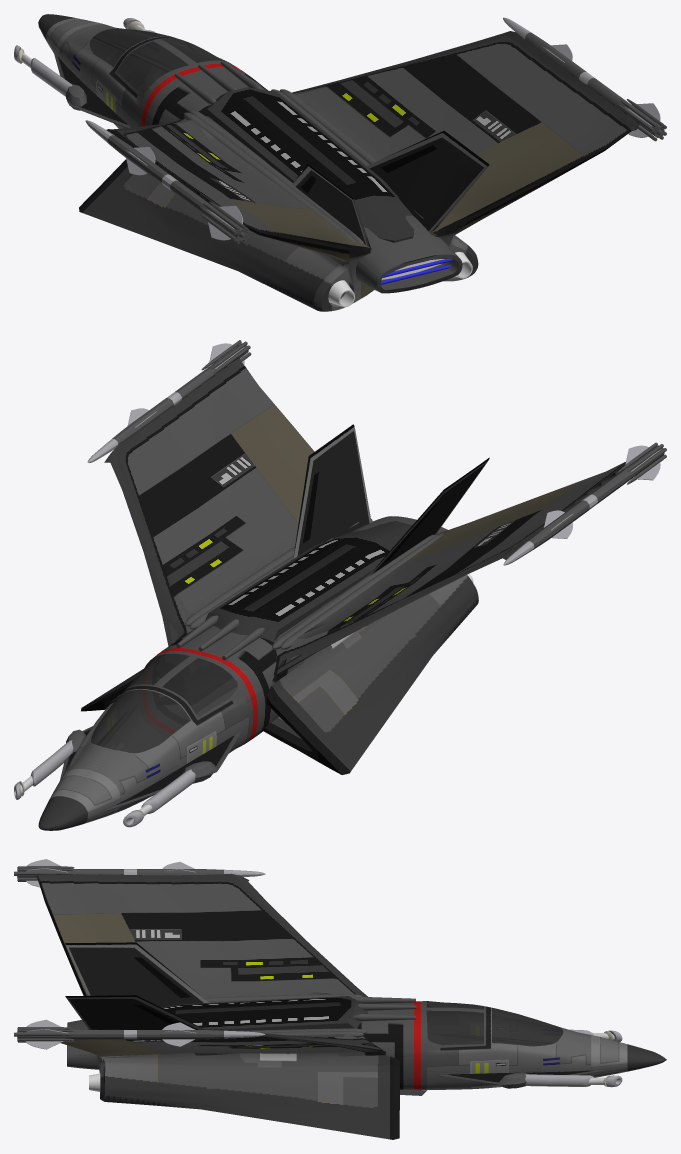
The model's file is talon-pirate.glb.
The picture shows the model from 3 angles, top to bottom: view 1: azimuth 30°, elevation 25°; view 2: azimuth 150°, elevation 25°; view 3: azimuth 270°, elevation 25°; orthographic projection. The views are drawn at different scales.
Parts seen in each view (by area): view 1: talon_5; view 2: talon_5; view 3: talon_5.
Part boxes in pixels (bbox=[...]): talon_5: bbox=[14, 14, 666, 311]; talon_5: bbox=[14, 340, 666, 830]; talon_5: bbox=[14, 859, 666, 1139].
Size of the model in its own units: 204 by 81.75 by 329.
Materials: 13 (6 with a texture image).
